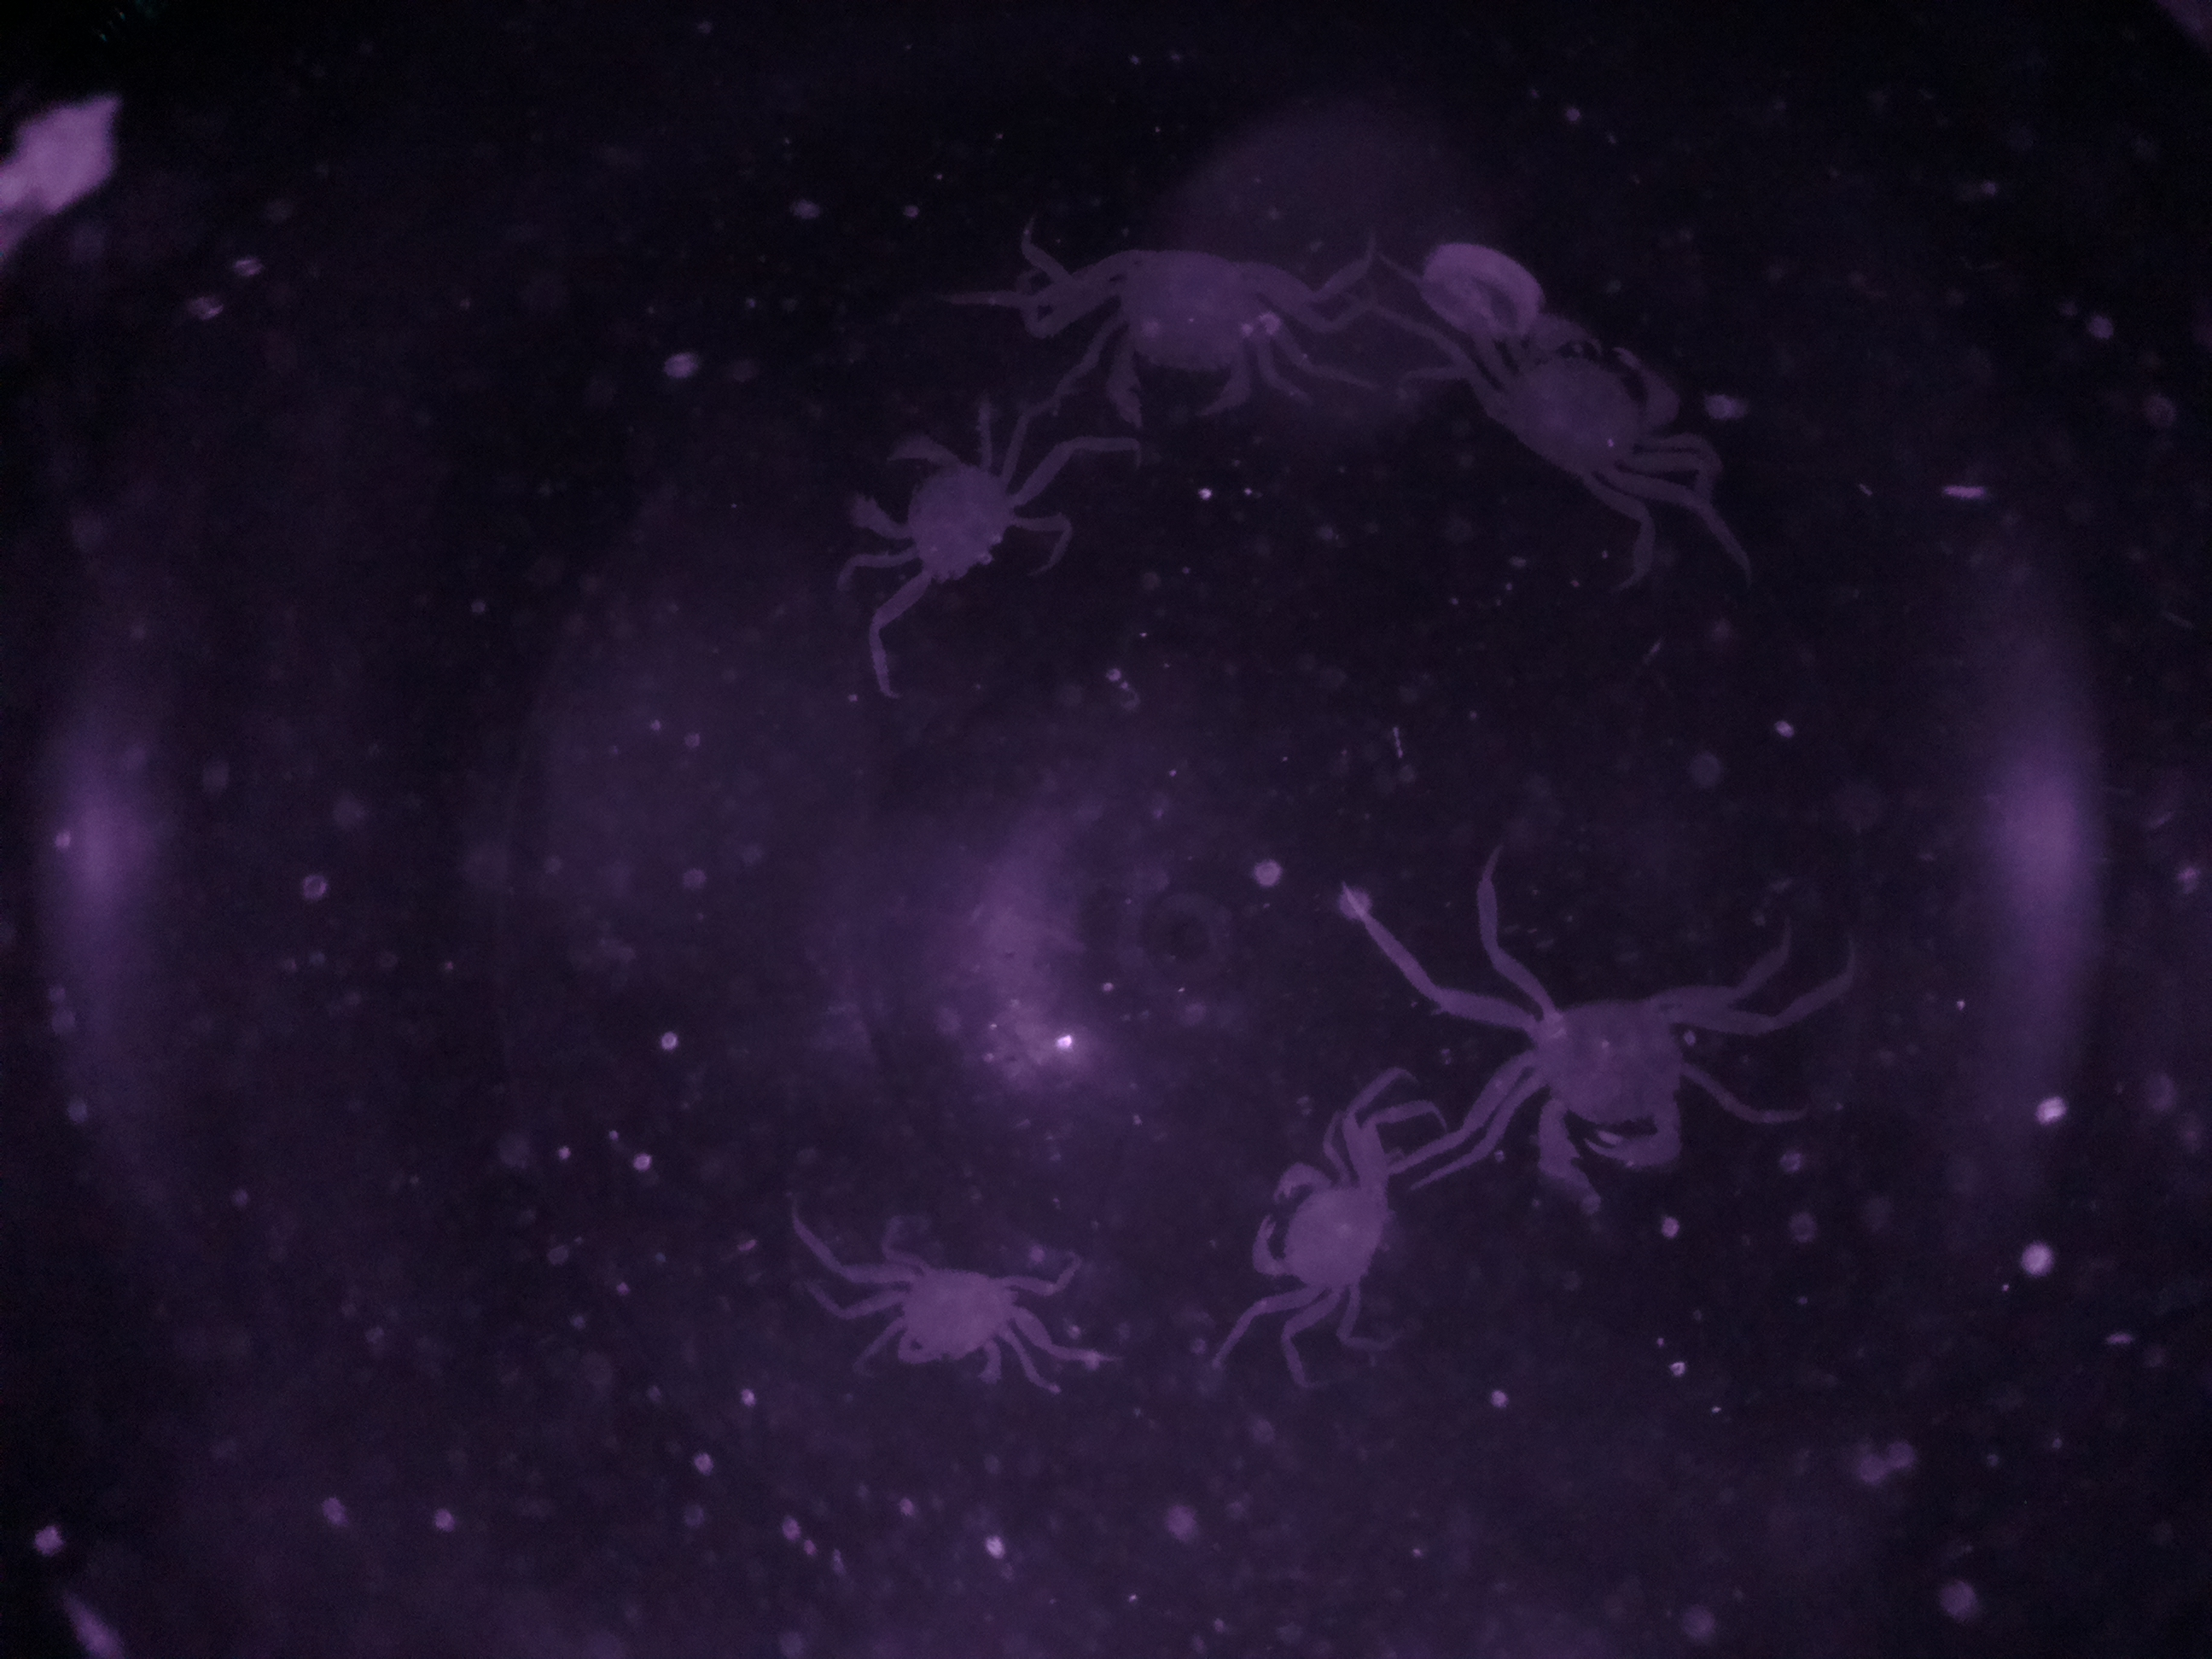Crab: (1453, 957, 1770, 1209), (1414, 288, 1731, 514), (1029, 247, 1366, 460), (827, 429, 1097, 622), (1228, 1126, 1449, 1354), (824, 1234, 1057, 1378)
